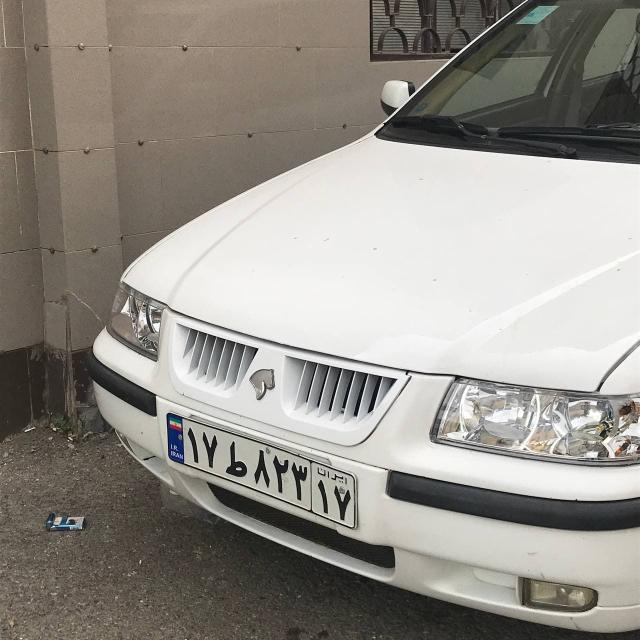Plates: (151, 414, 371, 529)
